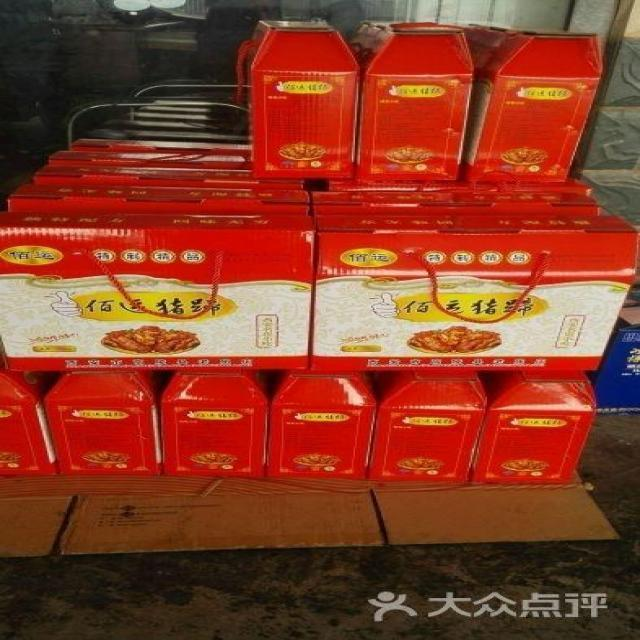box: (310, 212, 640, 368), (0, 215, 322, 372), (464, 27, 602, 190), (343, 23, 464, 184), (471, 362, 602, 494), (242, 21, 352, 176), (44, 364, 175, 484), (366, 360, 479, 486), (262, 364, 376, 480), (166, 370, 273, 482)
